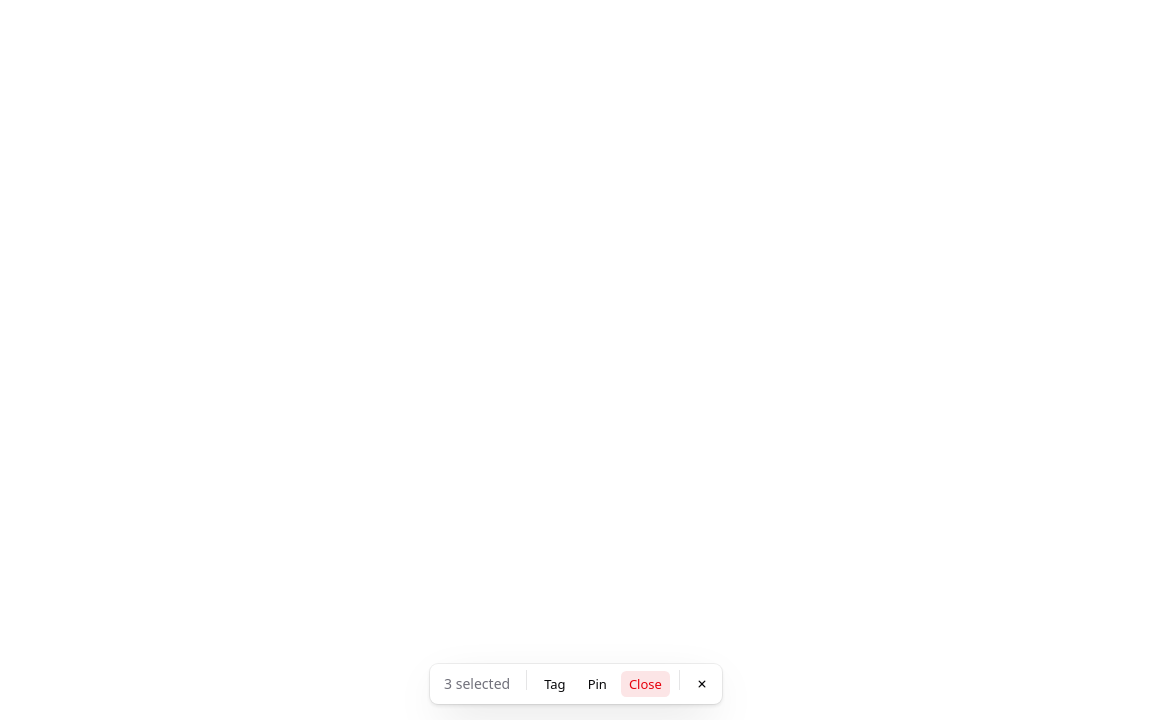
Scenario: BulkBar › makes no threat about processes when none of them is running
The width and height of the screenshot is (1152, 720).
What coordinates should you click on to do the following:
click the button "Close"
I would click on:
 (645, 684)
Its box is [620, 670, 671, 698].
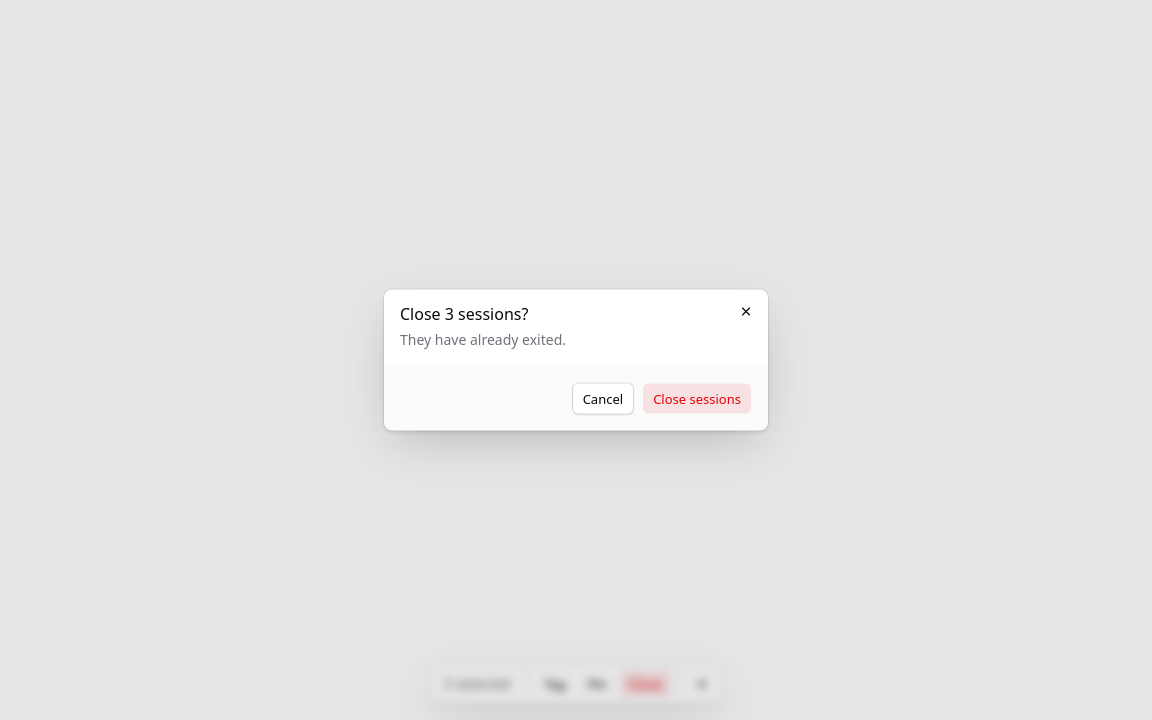
Expected: the dialog "Close 3 sessions?" is shown, [384, 290, 768, 430]
Expected: the text "They have already exited." is shown, [400, 330, 566, 348]
